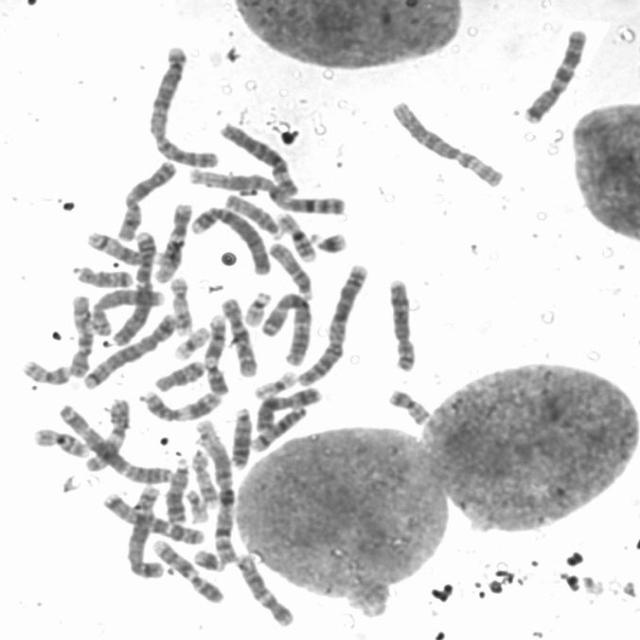A1: (184, 164, 348, 216), (190, 414, 240, 567)
A2: (294, 259, 372, 389), (143, 42, 222, 170)
A3: (56, 398, 178, 485), (257, 287, 315, 367)
B4: (186, 201, 272, 275), (109, 225, 158, 349)
B5: (79, 308, 181, 390), (122, 481, 167, 580)
C10: (217, 292, 259, 378), (65, 290, 95, 379)
C11: (80, 394, 132, 473), (138, 385, 224, 423)
C12: (233, 549, 297, 629), (151, 198, 195, 284)
C6: (387, 96, 508, 189), (215, 118, 300, 198)
C7: (517, 22, 591, 125), (96, 488, 208, 546)
C8: (87, 284, 166, 336), (382, 273, 418, 373)
C9: (147, 535, 225, 605), (200, 310, 231, 396)
D13: (161, 453, 192, 524), (226, 402, 256, 470)
D14: (247, 402, 310, 452), (84, 228, 152, 268)
D15: (264, 237, 317, 301), (221, 189, 285, 240)
E16: (273, 208, 321, 263), (28, 423, 91, 459)
E17: (188, 444, 220, 509), (167, 271, 196, 337)
E18: (150, 355, 208, 393), (71, 262, 135, 289)
F19: (169, 322, 211, 361), (250, 366, 299, 399)
F20: (384, 384, 434, 426), (17, 355, 73, 386)
G21: (307, 226, 350, 255), (190, 544, 228, 572)
G22: (240, 286, 274, 328), (182, 485, 211, 524)
X: (113, 156, 179, 243), (252, 382, 324, 433)
